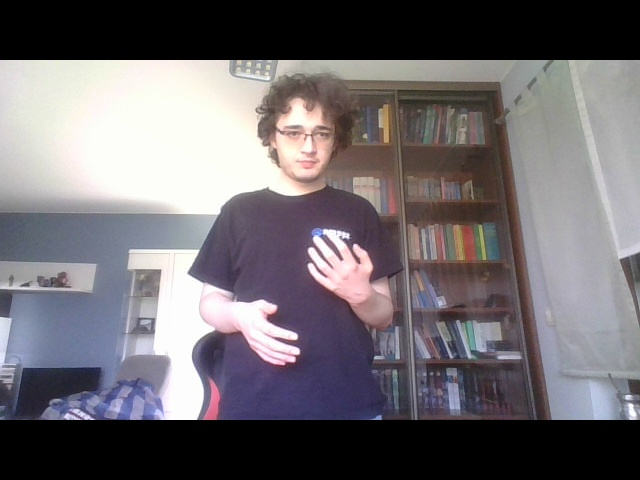hand: (303, 225, 375, 310), (237, 297, 301, 369)
